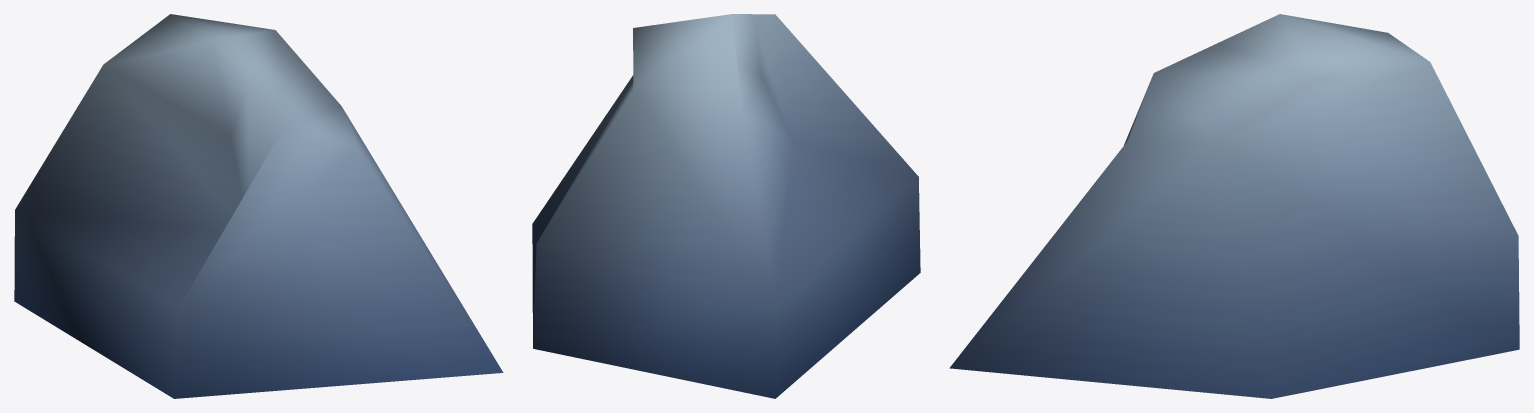
Rendered from boulder2.fbx.
3 renders of one model, left to right at view 1: azimuth 30°, elevation 25°; view 2: azimuth 150°, elevation 25°; view 3: azimuth 270°, elevation 25°, orthographic. The views are drawn at different scales.
Visible parts, largest first — view 1: boulder2; view 2: boulder2; view 3: boulder2.
Part boxes in pixels (<box>): boulder2: <box>14,14,503,398</box>; boulder2: <box>532,14,920,398</box>; boulder2: <box>949,14,1519,398</box>.
Size of the model in its own units: 0.00731 by 0.00633 by 0.0104.
1 material, 1 textured.
